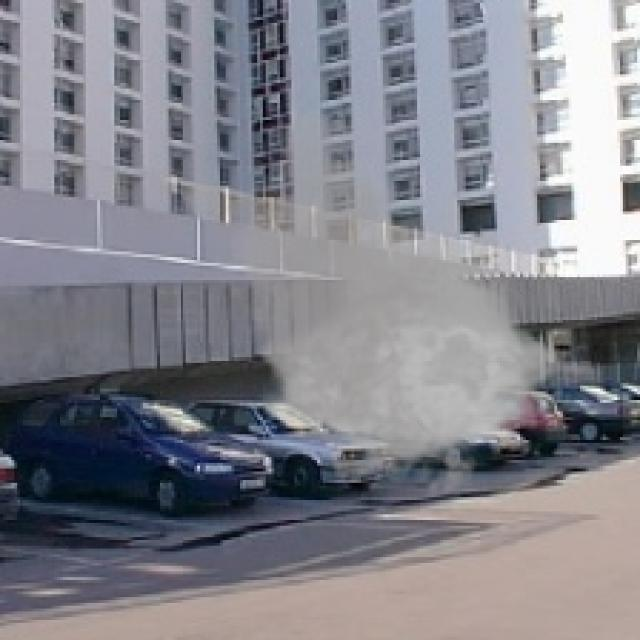Smoke: (220, 106, 609, 508)
